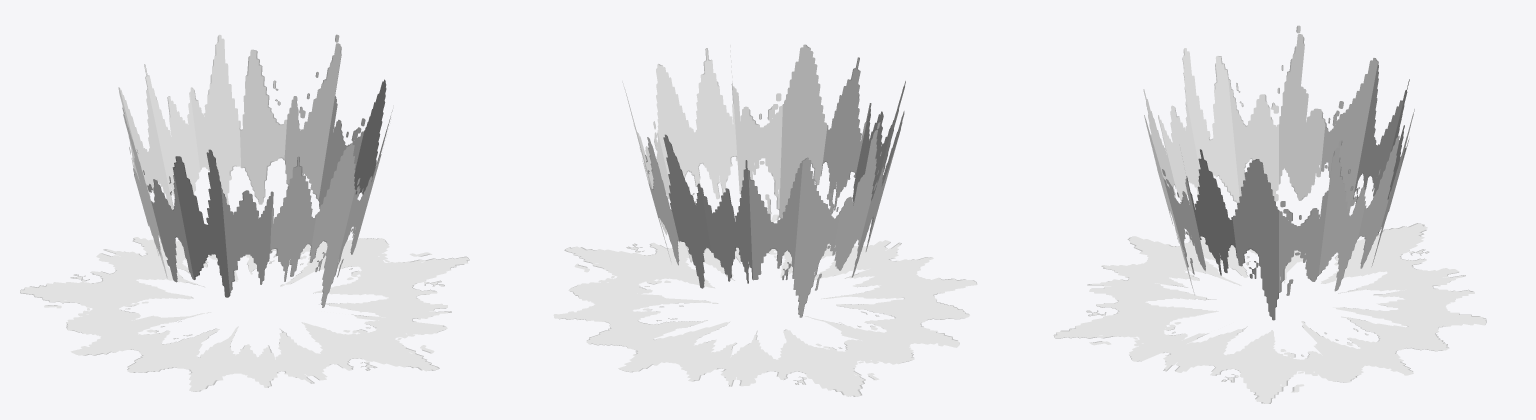
3 renders of one model, left to right at view 1: azimuth 30°, elevation 25°; view 2: azimuth 150°, elevation 25°; view 3: azimuth 270°, elevation 25°, orthographic.
Parts seen in each view (by area): view 1: powerFX, floorFX; view 2: powerFX, floorFX; view 3: powerFX, floorFX.
Boxes of the visible parts, x1,y1,x2,y2 form: powerFX: [118, 34, 392, 307]; floorFX: [20, 222, 469, 391]; powerFX: [622, 44, 905, 317]; floorFX: [553, 214, 977, 396]; powerFX: [1143, 25, 1414, 320]; floorFX: [1053, 223, 1486, 403].
Bounding box in the file's own units: 2 × 1.03 × 2.
